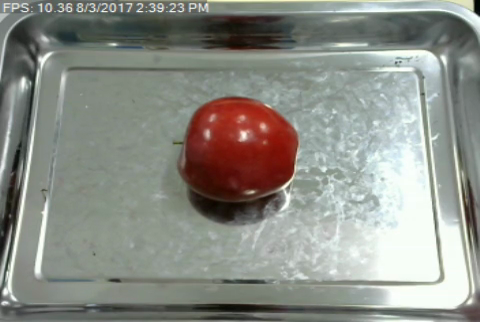Apple: (173, 94, 300, 208)
